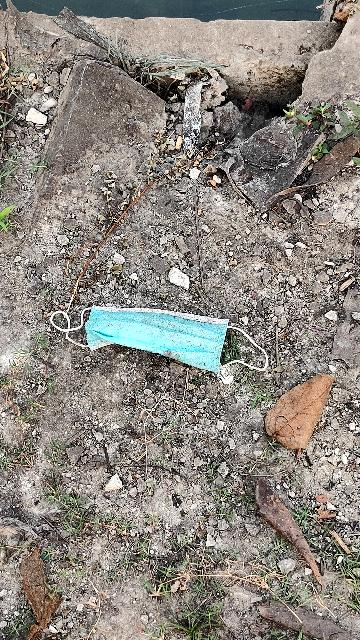mask: (56, 285, 275, 381)
